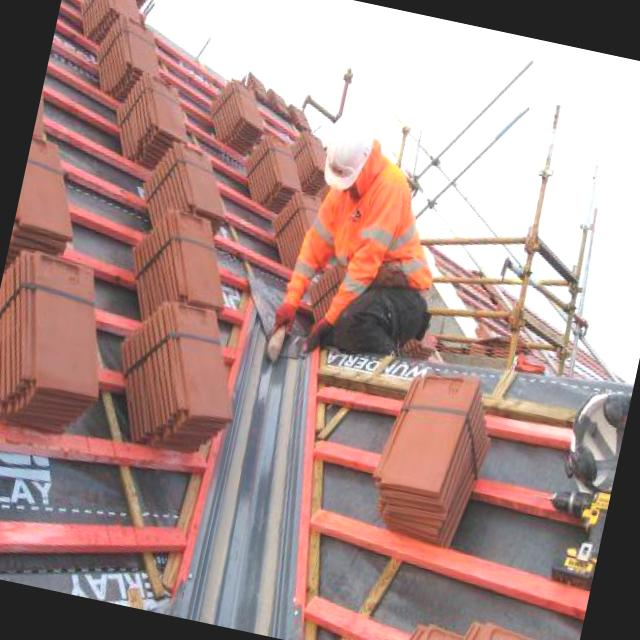helmet: (308, 108, 390, 208)
vest: (282, 181, 466, 306)
